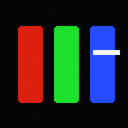3 line_h: (93, 50, 119, 54)
